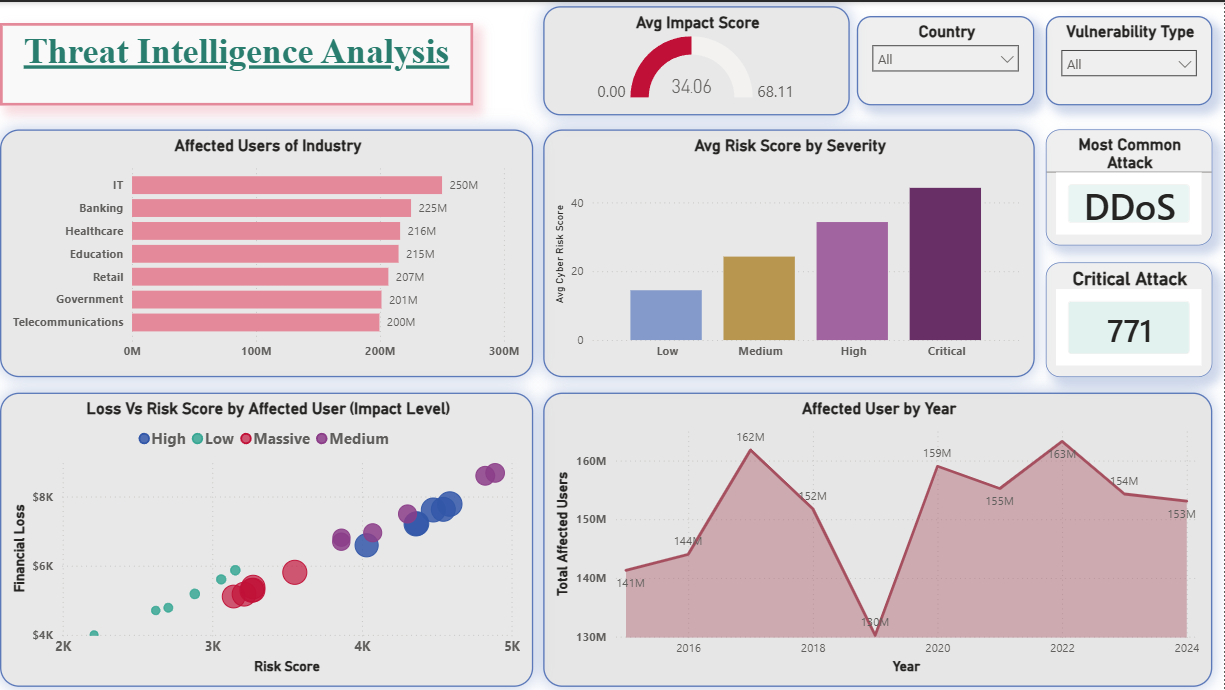

What the dashboard file says about the page in this screenshot:
{"tool":"powerbi","page":{"name":"Page 2","canvas":[1280,720],"ordinal":1},"visuals":[{"type":"areaChart","title":"Affected User by Year","fields":{"Y":["Sum(cybersecuritydb global_cybersecurity.Affected_Users)"],"Category":["cybersecuritydb global_cybersecurity.Year"]},"box":[568.3,408.6,700.1,307.6],"z":0},{"type":"clusteredColumnChart","title":"Avg Risk Score by Severity","fields":{"Category":["cybersecuritydb global_cybersecurity.Severity_Level"],"Y":["cybersecuritydb global_cybersecurity.Avg Cyber Risk Score"]},"box":[568.3,133.3,514.1,259.2],"z":1000},{"type":"barChart","title":"Affected Users of Industry","fields":{"Category":["cybersecuritydb global_cybersecurity.Target_Industry"],"Y":["Sum(cybersecuritydb global_cybersecurity.Affected_Users)"]},"box":[0,133.3,558,259.2],"z":2000},{"type":"scatterChart","title":"Loss Vs Risk Score by Affected User (Impact Level)","fields":{"Category":["cybersecuritydb global_cybersecurity.Attack_Type"],"Series":["cybersecuritydb global_cybersecurity.User_Impact_Category"],"X":["Sum(cybersecuritydb global_cybersecurity.Cyber_Risk_Score)"],"Y":["Sum(cybersecuritydb global_cybersecurity.Financial_Loss_Million)"],"Size":["Sum(cybersecuritydb global_cybersecurity.Affected_Users)"]},"box":[0,408.6,558,307.6],"z":3000},{"type":"textbox","box":[0,22,495,86.4],"z":4000},{"type":"gauge","fields":{"Y":["cybersecuritydb global_cybersecurity.Avg Impact Score"]},"box":[568.3,4.4,320.8,114.2],"z":5000},{"type":"cardVisual","title":"Most Common Attack","fields":{"Data":["cybersecuritydb global_cybersecurity.Most Common Attack"]},"box":[1094.1,133.3,174.3,121.6],"z":6000},{"type":"slicer","title":"Country","fields":{"Values":["cybersecuritydb global_cybersecurity.Country"]},"box":[896.3,14.6,186,93.7],"z":7000},{"type":"slicer","title":"Vulnerability Type","fields":{"Values":["cybersecuritydb global_cybersecurity.Vulnerability_Type"]},"box":[1094.1,14.6,174.3,93.7],"z":8000},{"type":"cardVisual","title":"Critical Attack","fields":{"Data":["cybersecuritydb global_cybersecurity.Critical Attack Count"]},"box":[1094.1,272.4,174.3,120.1],"z":9000}]}

Visuals, with their boxes in screenshot pixels (x1, y1, x2, y2), scaled from the page's 1280x720 canvas onto the 1225x690 screenshot:
"Affected User by Year" areaChart: locate(544, 392, 1214, 686)
"Avg Risk Score by Severity" clusteredColumnChart: locate(544, 128, 1036, 376)
"Affected Users of Industry" barChart: locate(0, 128, 534, 376)
"Loss Vs Risk Score by Affected User (Impact Level)" scatterChart: locate(0, 392, 534, 686)
textbox: locate(0, 21, 474, 104)
gauge - cybersecuritydb global_cybersecurity.Avg Impact Score: locate(544, 4, 851, 114)
"Most Common Attack" cardVisual: locate(1047, 128, 1214, 244)
"Country" slicer: locate(858, 14, 1036, 104)
"Vulnerability Type" slicer: locate(1047, 14, 1214, 104)
"Critical Attack" cardVisual: locate(1047, 261, 1214, 376)
